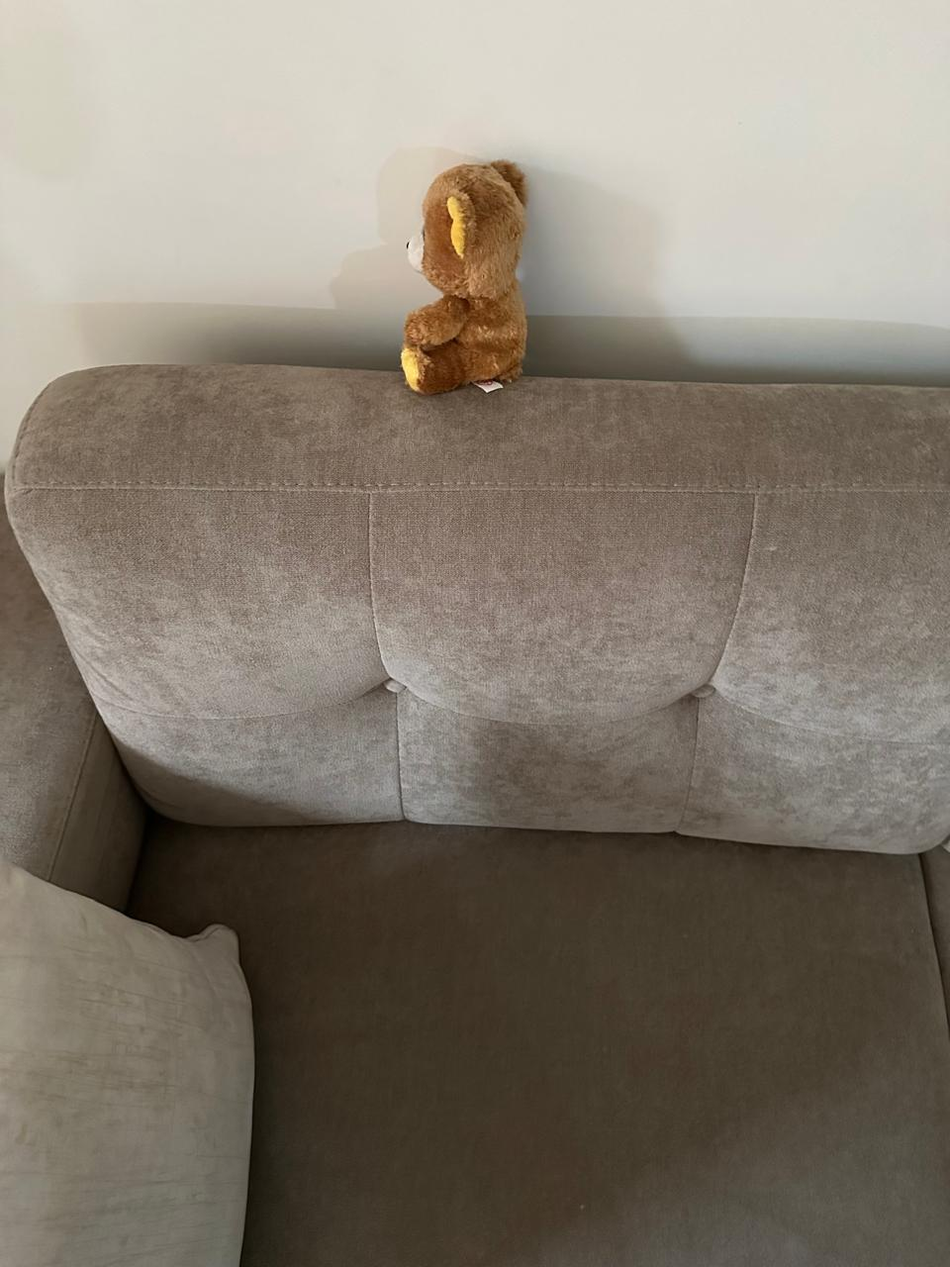peluche_sebastian: (396, 158, 534, 398)
